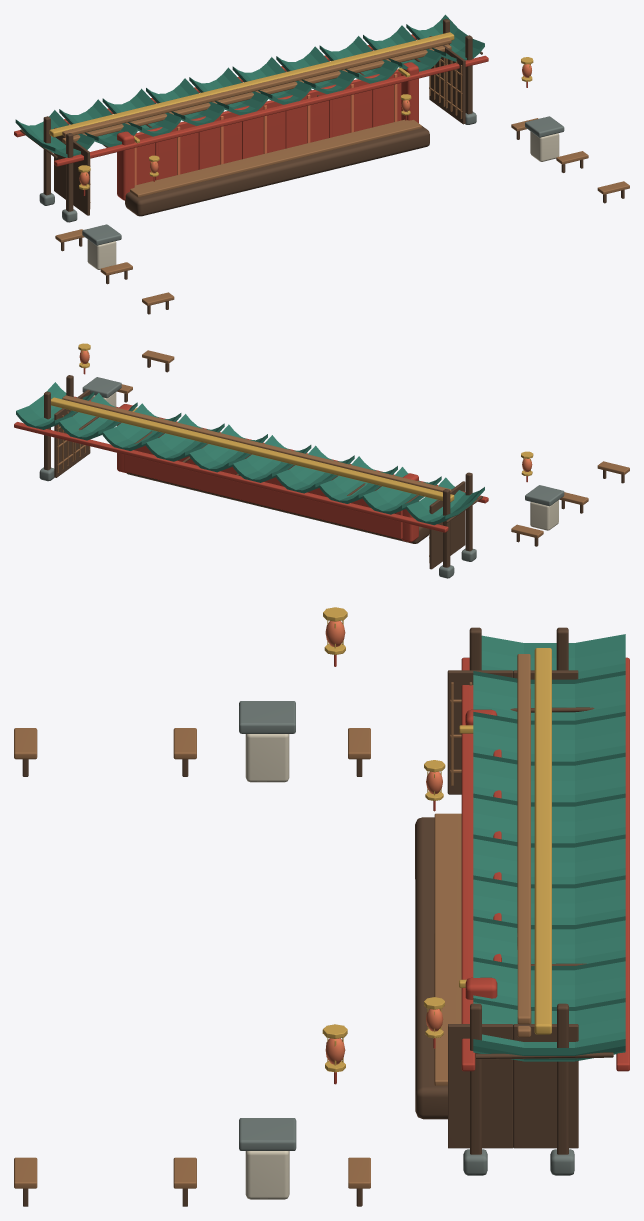
The model's file is courtyard-dressing.glb.
3 renders of one model, top to bottom at view 1: azimuth 30°, elevation 25°; view 2: azimuth 150°, elevation 25°; view 3: azimuth 270°, elevation 25°, orthographic. The views are drawn at different scales.
Parts seen in each view (by area): view 1: venue-courtyard | Courtyard | vermilion lacquer, venue-courtyard | Courtyard | dark timber, venue-courtyard | Courtyard | warm timber, venue-courtyard | Courtyard | glazed jade, venue-courtyard | Courtyard | brushed brass, venue-courtyard | Courtyard | slate, venue-courtyard | Courtyard | lantern silk, venue-courtyard | Courtyard | pale stone; view 2: venue-courtyard | Courtyard | glazed jade, venue-courtyard | Courtyard | vermilion lacquer, venue-courtyard | Courtyard | dark timber, venue-courtyard | Courtyard | brushed brass, venue-courtyard | Courtyard | warm timber, venue-courtyard | Courtyard | slate, venue-courtyard | Courtyard | pale stone; view 3: venue-courtyard | Courtyard | glazed jade, venue-courtyard | Courtyard | dark timber, venue-courtyard | Courtyard | warm timber, venue-courtyard | Courtyard | brushed brass, venue-courtyard | Courtyard | vermilion lacquer, venue-courtyard | Courtyard | slate, venue-courtyard | Courtyard | pale stone, venue-courtyard | Courtyard | lantern silk.
Part boxes in pixels (x1,y1,x2,y2): venue-courtyard | Courtyard | vermilion lacquer: [14, 34, 527, 200]; venue-courtyard | Courtyard | dark timber: [20, 19, 624, 314]; venue-courtyard | Courtyard | warm timber: [55, 37, 629, 305]; venue-courtyard | Courtyard | glazed jade: [15, 14, 484, 157]; venue-courtyard | Courtyard | brushed brass: [49, 32, 533, 189]; venue-courtyard | Courtyard | slate: [39, 111, 564, 245]; venue-courtyard | Courtyard | lantern silk: [79, 64, 531, 185]; venue-courtyard | Courtyard | pale stone: [87, 131, 559, 269]; venue-courtyard | Courtyard | glazed jade: [16, 382, 484, 525]; venue-courtyard | Courtyard | vermilion lacquer: [14, 368, 527, 542]; venue-courtyard | Courtyard | dark timber: [44, 359, 624, 569]; venue-courtyard | Courtyard | brushed brass: [51, 343, 533, 502]; venue-courtyard | Courtyard | warm timber: [57, 350, 629, 562]; venue-courtyard | Courtyard | slate: [39, 377, 564, 578]; venue-courtyard | Courtyard | pale stone: [90, 392, 558, 530]; venue-courtyard | Courtyard | glazed jade: [473, 634, 625, 1061]; venue-courtyard | Courtyard | dark timber: [22, 627, 613, 1206]; venue-courtyard | Courtyard | warm timber: [14, 654, 531, 1188]; venue-courtyard | Courtyard | brushed brass: [322, 607, 551, 1072]; venue-courtyard | Courtyard | vermilion lacquer: [334, 655, 629, 1084]; venue-courtyard | Courtyard | slate: [239, 701, 574, 1175]; venue-courtyard | Courtyard | pale stone: [245, 734, 289, 1199]; venue-courtyard | Courtyard | lantern silk: [325, 621, 443, 1064].
Size of the model in its own units: 22.25 by 3.81 by 12.73.
